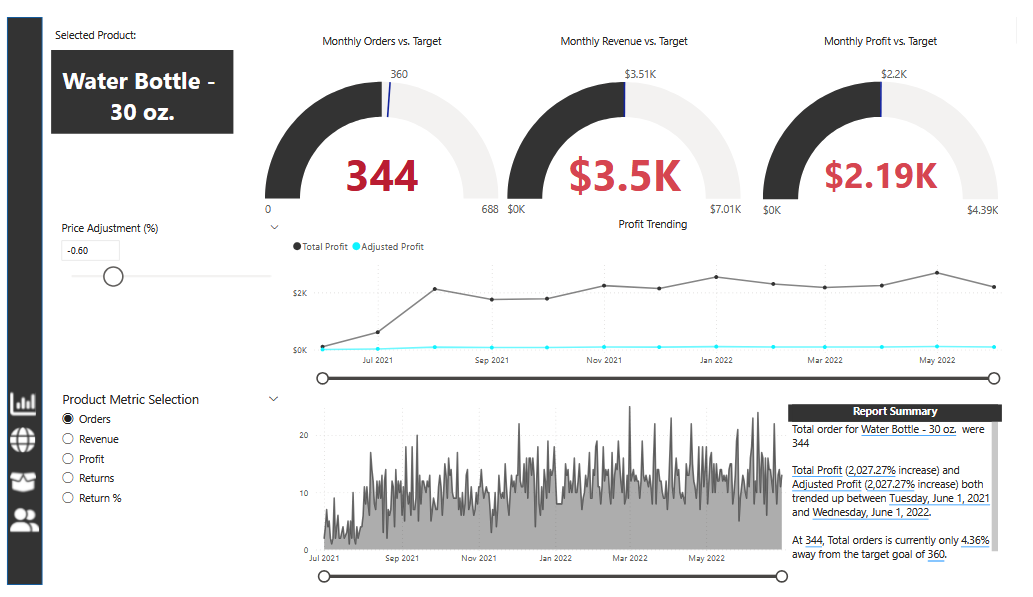

The dashboard page shown, as its layout file describes it:
{"tool":"powerbi","page":{"name":"Product Detail","canvas":[1280,720],"ordinal":2},"visuals":[{"type":"shape","box":[0,0,45,720],"z":0},{"type":"gauge","title":"Monthly Orders vs. Target","fields":{"Y":["Measure Table.Total orders"],"TargetValue":["Measure Table.Order Target"]},"box":[322,20.9,306.3,254],"z":1000},{"type":"gauge","title":"Monthly Profit vs. Target","fields":{"Y":["Measure Table.Total Profit"],"TargetValue":["Measure Table.Profit target"]},"box":[953,20.9,307.6,254],"z":2000},{"type":"gauge","title":"Monthly Revenue vs. Target","fields":{"Y":["Measure Table.Total Revenue"],"TargetValue":["Measure Table.Revenue Target"]},"box":[629,20.9,306.3,254],"z":3000},{"type":"lineChart","title":"Profit Trending","fields":{"Category":["Calendar Lookup.Date Hierarchy.Start of Year","Calendar Lookup.Date Hierarchy.Start of Month","Calendar Lookup.Date Hierarchy.Start of Quarter","Calendar Lookup.Date Hierarchy.Start of Week","Calendar Lookup.Date Hierarchy.Date"],"Y":["Measure Table.Total Profit","Measure Table.Adjusted Profit"]},"box":[356.7,254,923.3,215.5],"z":4000},{"type":"areaChart","title":"Returns Trending","fields":{"Y":["Measure Table.Total orders"],"Category":["Calendar Lookup.Date Hierarchy.Start of Year","Calendar Lookup.Date Hierarchy.Start of Month","Calendar Lookup.Date Hierarchy.Start of Quarter","Calendar Lookup.Date Hierarchy.Start of Week","Calendar Lookup.Date Hierarchy.Date"]},"box":[365.2,480.4,645.4,239.6],"z":5000},{"type":"card","fields":{"Values":["Min(Product Lookup.ProductName)"]},"box":[56.3,41.9,230.4,106],"z":6000},{"type":"textbox","box":[56.3,9.2,144,32.7],"z":7000},{"type":"actionButton","box":[0,569.5,44.5,40.6],"z":8000},{"type":"actionButton","box":[0,515.8,44.5,40.6],"z":9000},{"type":"actionButton","box":[0,470,44.5,40.6],"z":10000},{"type":"actionButton","box":[0,600.9,44.5,72],"z":11000},{"type":"slicer","fields":{"Values":["Price Adjustment.Price Adjustment"]},"box":[55.7,254,301.1,195.5],"z":12000},{"type":"slicer","fields":{"Values":["Product Metric Selection.Product Metric Selection"]},"box":[57.1,469.5,299.7,216.9],"z":13000},{"type":"textbox","title":"Report Summary","box":[989.7,490.9,271,213.4],"z":14000}]}

Visuals, with their boxes on the page's 1280x720 design canvas (x1, y1, x2, y2). These are canvas units, not pixel positions in the 1033x597 screenshot, which may show the page scaled, cropped or inside an application window:
shape: box(0, 0, 45, 720)
"Monthly Orders vs. Target" gauge: box(322, 21, 628, 275)
"Monthly Profit vs. Target" gauge: box(953, 21, 1261, 275)
"Monthly Revenue vs. Target" gauge: box(629, 21, 935, 275)
"Profit Trending" lineChart: box(357, 254, 1280, 470)
"Returns Trending" areaChart: box(365, 480, 1011, 720)
card - Min(Product Lookup.ProductName): box(56, 42, 287, 148)
textbox: box(56, 9, 200, 42)
actionButton: box(0, 570, 44, 610)
actionButton: box(0, 516, 44, 556)
actionButton: box(0, 470, 44, 511)
actionButton: box(0, 601, 44, 673)
slicer - Price Adjustment.Price Adjustment: box(56, 254, 357, 450)
slicer - Product Metric Selection.Product Metric Selection: box(57, 470, 357, 686)
"Report Summary" textbox: box(990, 491, 1261, 704)
